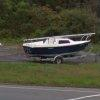Boat: (19, 29, 95, 66)
